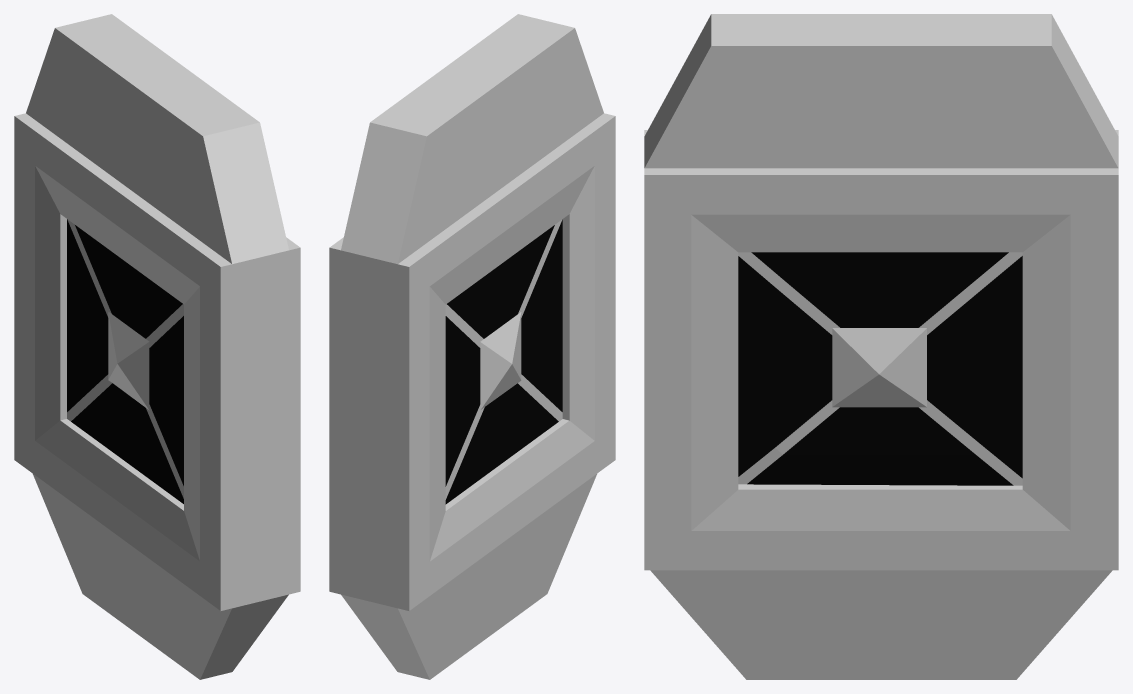
File: Dver.fbx
3 renders of one model, left to right at view 1: azimuth 30°, elevation 25°; view 2: azimuth 150°, elevation 25°; view 3: azimuth 270°, elevation 25°, orthographic. The views are drawn at different scales.
Parts seen in each view (by area): view 1: Door; view 2: Door; view 3: Door.
Part boxes in pixels (<box>): Door: <box>14,14,300,679</box>; Door: <box>329,14,615,679</box>; Door: <box>644,14,1118,679</box>.
Bounding box in the file's own units: 34.83 × 233 × 156.
2 materials, 1 textured.
